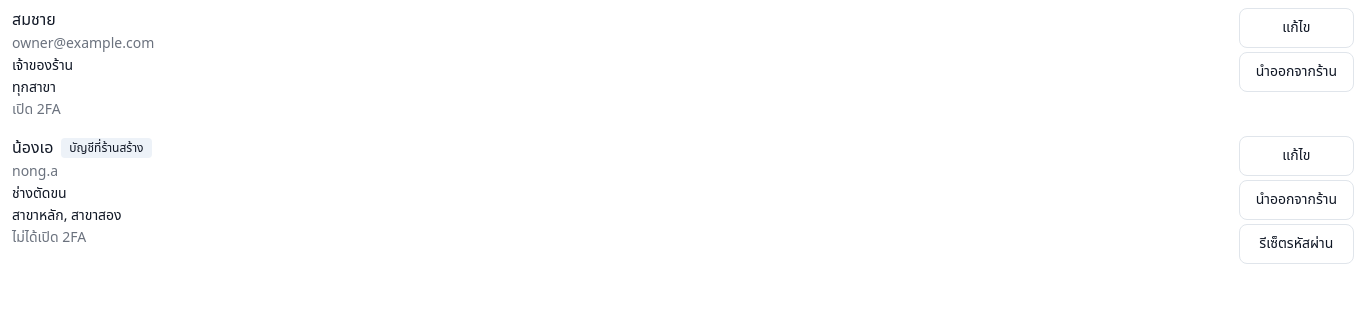
Test: remove (#contract-staff-remove, F09) › LAST_OWNER → its message in the row
This screenshot has width=1366, height=309.
expect the text "น้องเอ" is shown: met, box [12,136,53,160]
What coordinates should you click on to do the following:
click the button "นำออกจากร้าน" in the row of "เจ้าของร้าน"
I would click on:
 (1296, 72)
Its box is [1239,52,1354,92].
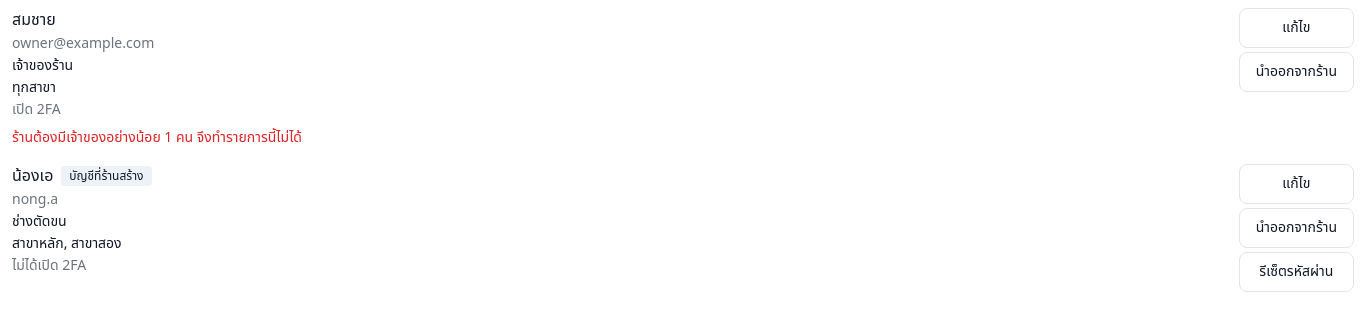
expect the text "ร้านต้องมีเจ้าของอย่างน้อย 1 คน จึงทำรายการนี้ไม่ได้" is shown: met, box [12,127,302,148]
